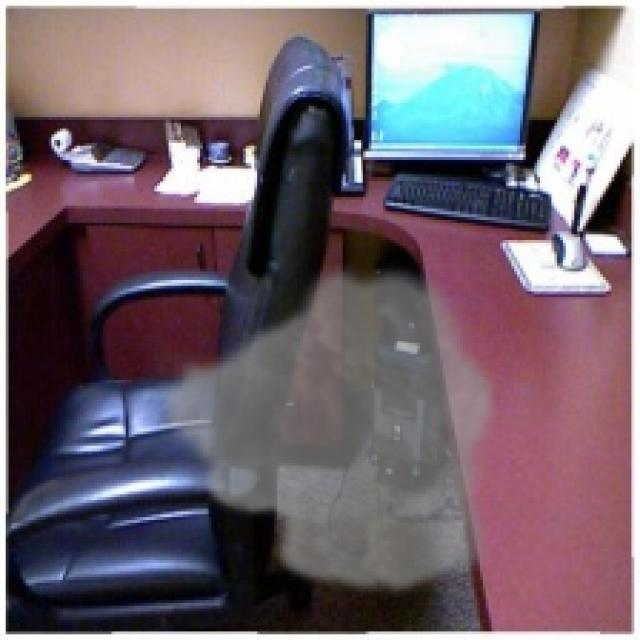smoke: (151, 257, 500, 600)
